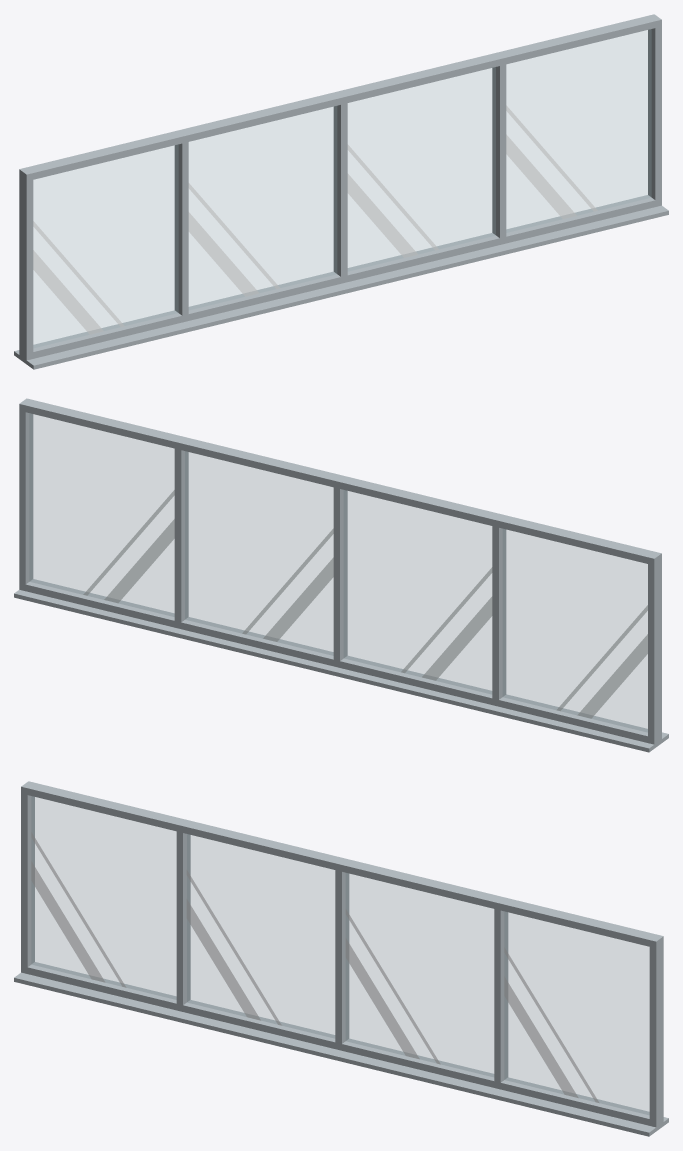
File: SM_StorefrontBay_B.glb
The picture shows the model from 3 angles, top to bottom: view 1: azimuth 30°, elevation 25°; view 2: azimuth 150°, elevation 25°; view 3: azimuth 330°, elevation 25°; orthographic projection.
Parts seen in each view (by area): view 1: Glass, SM_StorefrontBay_B; view 2: Glass, SM_StorefrontBay_B; view 3: Glass, SM_StorefrontBay_B.
Boxes of the visible parts, x1,y1,x2,y2 form: Glass: (33, 29, 651, 347); SM_StorefrontBay_B: (14, 14, 668, 369); Glass: (29, 413, 647, 731); SM_StorefrontBay_B: (14, 398, 668, 752); Glass: (31, 796, 649, 1114); SM_StorefrontBay_B: (14, 781, 668, 1136).
Size of the model in its own units: 4.9 by 1.4 by 0.265.
3 materials, 3 textured.
